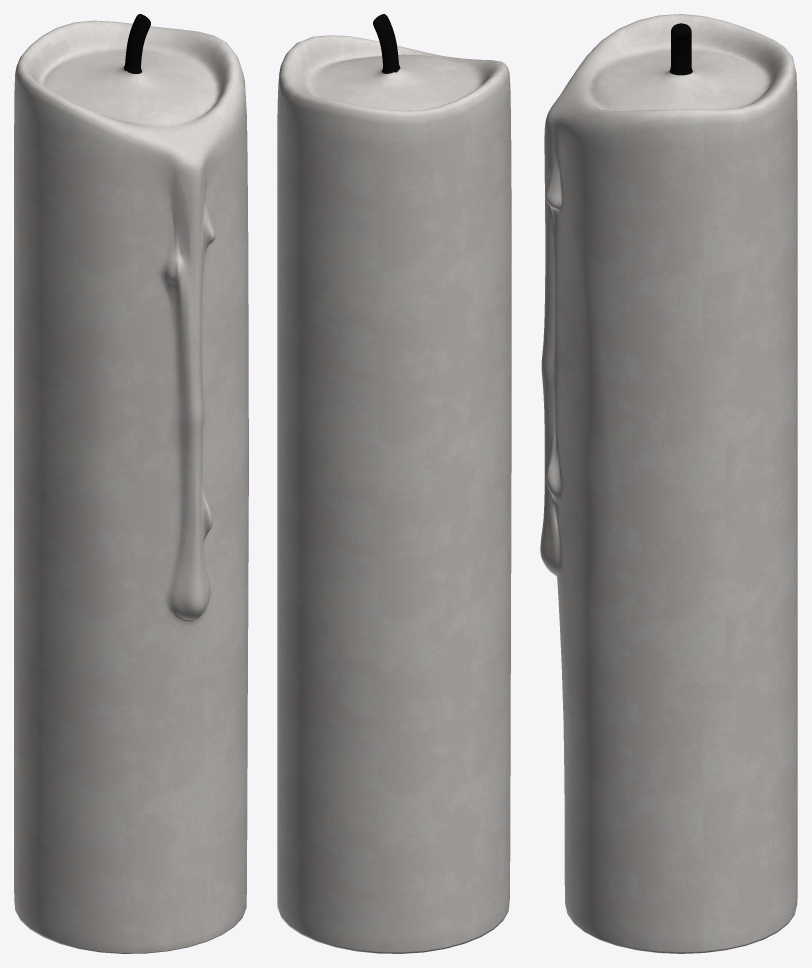
File: Candle.fbx
3 views of the same model, side by side, from view 1: azimuth 30°, elevation 25°; view 2: azimuth 150°, elevation 25°; view 3: azimuth 270°, elevation 25° (orthographic).
Visible parts, largest first — view 1: Cube; view 2: Cube; view 3: Cube.
Boxes of the visible parts, x1=… form: Cube: x1=14, y1=14, x2=248, y2=953; Cube: x1=277, y1=14, x2=511, y2=953; Cube: x1=540, y1=14, x2=797, y2=953.
Size of the model in its own units: 3.69 by 15.53 by 4.08.
Materials: 1 (1 with a texture image).
